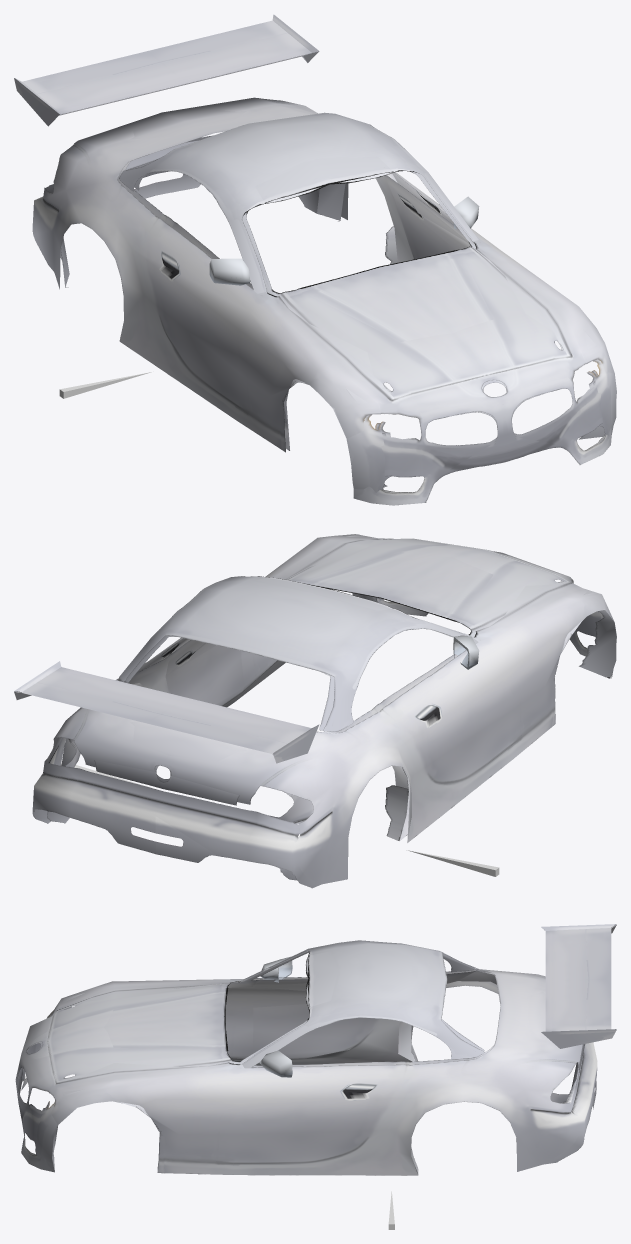
Rendered from Zed.FBX.
3 views of the same model, one above another, from view 1: azimuth 30°, elevation 25°; view 2: azimuth 150°, elevation 25°; view 3: azimuth 270°, elevation 25° (orthographic). The views are drawn at different scales.
Parts seen in each view (by area): view 1: Zed1BodyLores, Zed3BodyDoorCut, Zed2BodyWindowed, DoorL, MirrorR; view 2: Zed1BodyLores, Zed3BodyDoorCut, Zed2BodyWindowed, DoorL, MirrorR, EnterR; view 3: Zed1BodyLores, Zed3BodyDoorCut, Zed2BodyWindowed, DoorR, MirrorL, MirrorR.
Boxes of the visible parts, x1,y1,x2,y2 form: Zed1BodyLores: [14, 15, 616, 505]; Zed3BodyDoorCut: [14, 15, 613, 500]; Zed2BodyWindowed: [15, 15, 616, 499]; DoorL: [384, 175, 469, 259]; MirrorR: [209, 258, 250, 285]; Zed1BodyLores: [14, 534, 616, 888]; Zed3BodyDoorCut: [14, 534, 616, 880]; Zed2BodyWindowed: [15, 539, 578, 859]; DoorL: [165, 640, 244, 705]; MirrorR: [453, 635, 479, 669]; EnterR: [406, 850, 499, 876]; Zed1BodyLores: [15, 924, 616, 1175]; Zed3BodyDoorCut: [20, 924, 615, 1173]; Zed2BodyWindowed: [15, 924, 616, 1173]; DoorR: [253, 983, 378, 1058]; MirrorL: [259, 1050, 292, 1077]; MirrorR: [260, 956, 292, 982].
Size of what is drawn, in the model's own units: 331 by 153 by 479.
